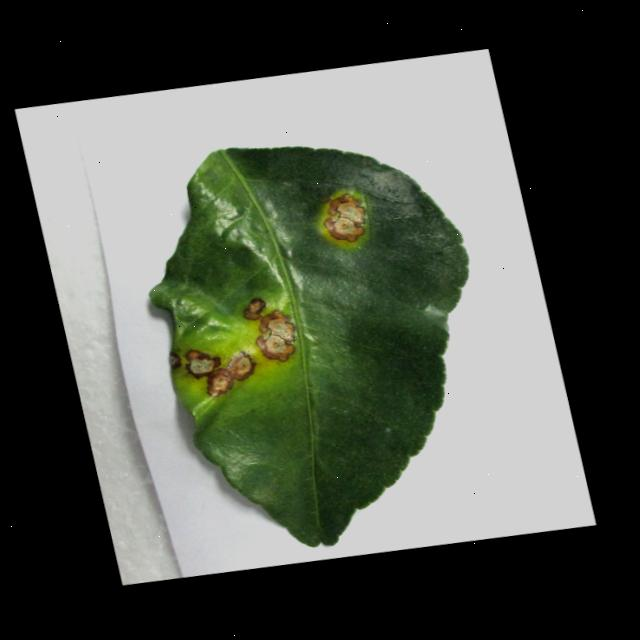antracnose: (150, 145, 468, 545), (256, 309, 295, 361), (324, 192, 365, 241), (324, 216, 364, 241), (226, 350, 255, 379), (187, 349, 220, 374), (207, 367, 234, 395), (243, 297, 266, 319), (169, 351, 181, 367)
